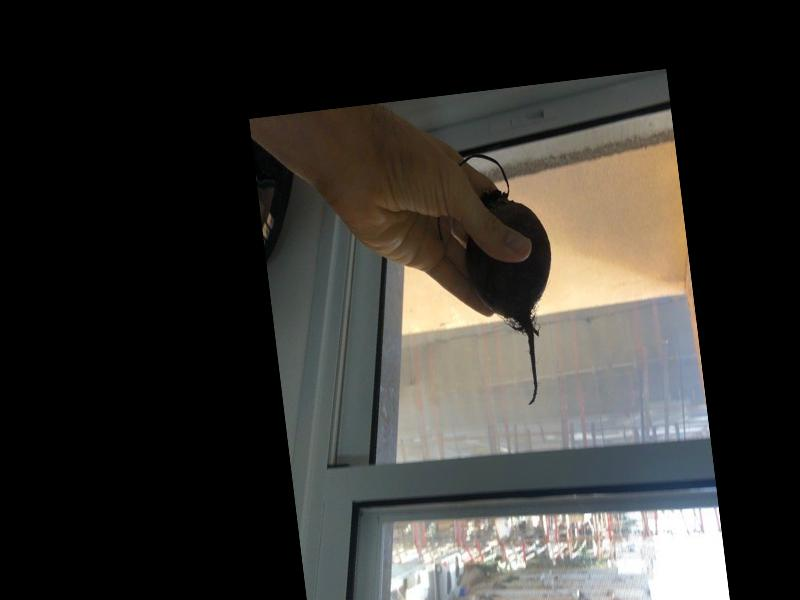Beet: (428, 147, 568, 414)
